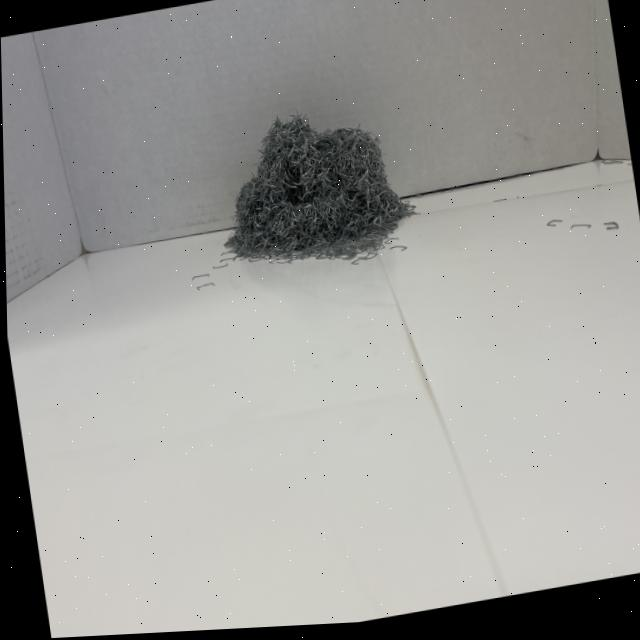staples: (205, 90, 420, 271)
